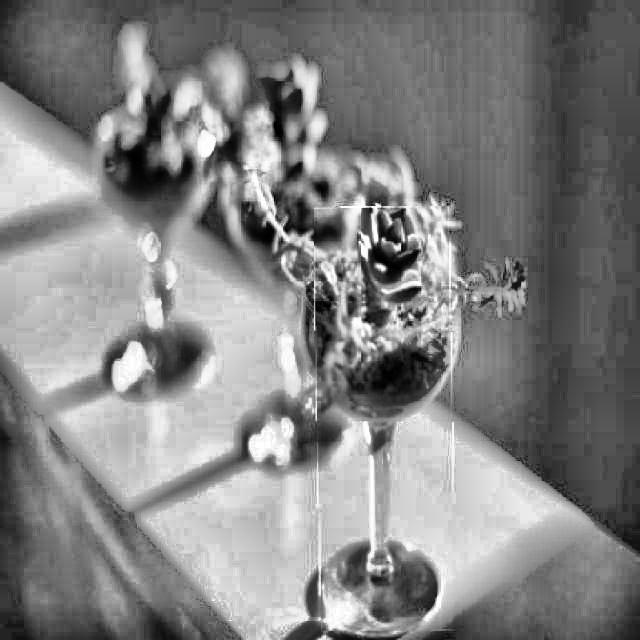plants: (315, 206, 454, 632)
